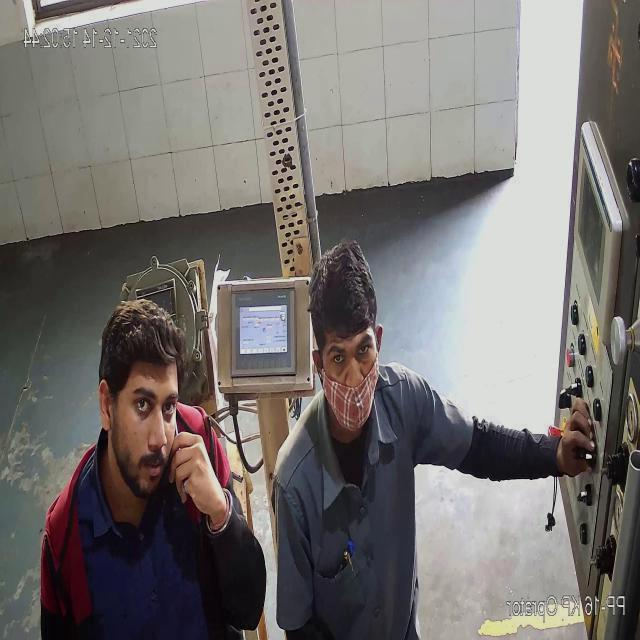face_mask: (319, 337, 381, 425)
face_nomask: (118, 385, 180, 482)
hand_noglove: (167, 429, 230, 517), (553, 399, 598, 481)
head_nohelmet: (305, 239, 384, 341), (98, 297, 189, 375)
person: (25, 296, 268, 638), (270, 235, 441, 640)
